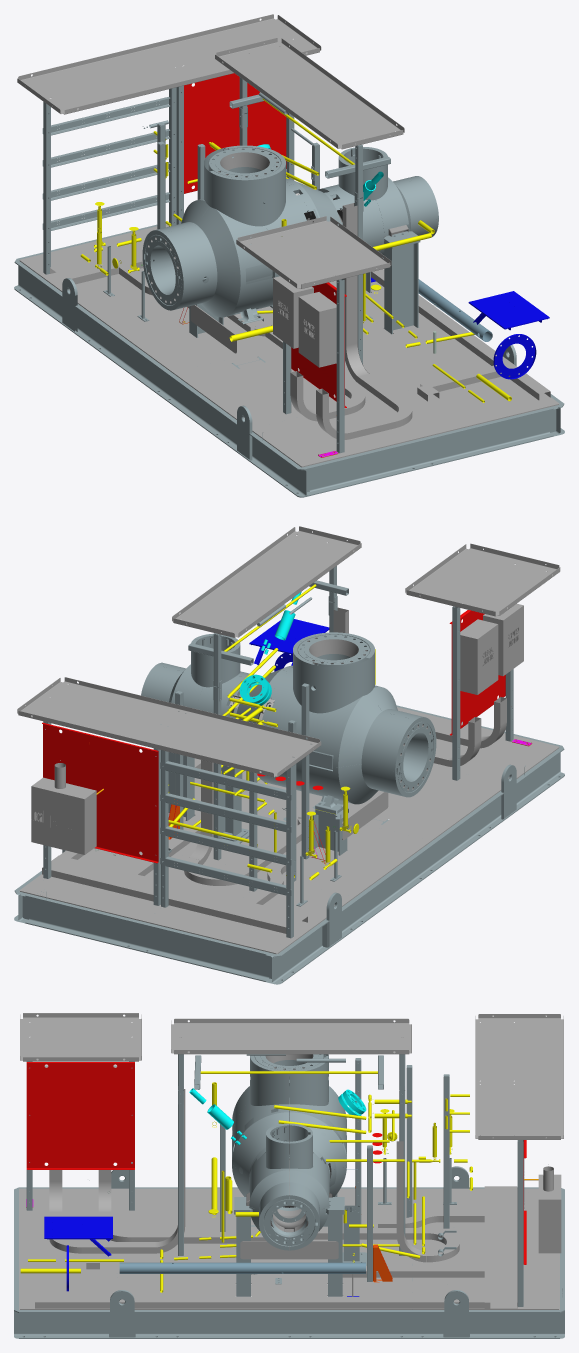
3 views of the same model, one above another, from view 1: azimuth 30°, elevation 25°; view 2: azimuth 150°, elevation 25°; view 3: azimuth 270°, elevation 25° (orthographic). The views are drawn at different scales.
Visible parts, largest first — view 1: 177,177,177.6, 769139577-57_01_001_1-Couverture.1529, 740304057_a03_1-Toit.1233, 762232750-02_09_002_1-Cable_Tray.1021, 740304058-03_002_1-Toit.1104, 769232984_01_002_1-IPE_300_5600.82, 769232984_02_001_1-IPE_300_2550.44, 740304058-04_001_1-Toit.932, 255,0,0.487, 740206545-03_001_1-Support_Instrum_1410mm_5instrum_304_304L. (×4), 152,170,175.1584, Composite Part.2880 (+16 smaller); view 2: 177,177,177.6, 769139577-57_01_001_1-Couverture.1529, 740304057_a03_1-Toit.1233, 762232750-02_09_002_1-Cable_Tray.1021, 255,0,0.487, 740304058-03_002_1-Toit.1104, 769232984_01_002_1-IPE_300_5600.82, 769232984_02_001_1-IPE_300_2550.92, 740304058-04_001_1-Toit.932, 740206545-03_001_1-Support_Instrum_1410mm_5instrum_304_304L. (×4), 076169_002_1-Local panel.498, 152,170,175.1584 (+19 smaller); view 3: 177,177,177.6, 762232750-02_09_002_1-Cable_Tray.1021, 769139577-57_01_001_1-Couverture.1529, 769232984_01_002_1-IPE_300_5600.124, 255,0,0.925, 740304057_a03_1-Toit.1233, 740304058-03_002_1-Toit.1104, 740304058-04_001_1-Toit.932, Composite Part.2881, 076169_002_1-Local panel.498, Composite Part.2880, 769232984_17_001_1-Renfort IPE.140 (+25 smaller).
Part boxes in pixels (<box>): 177,177,177.6: <box>19,224,559,467</box>; 769139577-57_01_001_1-Couverture.1529: <box>142,145,438,317</box>; 740304057_a03_1-Toit.1233: <box>17,14,321,114</box>; 762232750-02_09_002_1-Cable_Tray.1021: <box>50,203,550,439</box>; 740304058-03_002_1-Toit.1104: <box>215,38,404,149</box>; 769232984_01_002_1-IPE_300_5600.82: <box>14,256,313,497</box>; 769232984_02_001_1-IPE_300_2550.44: <box>307,407,556,494</box>; 740304058-04_001_1-Toit.932: <box>236,216,391,288</box>; 255,0,0.487: <box>184,73,286,193</box>; 740206545-03_001_1-Support_Instrum_1410mm_5instrum_304_304L. (×4): <box>42,97,170,230</box>; 152,170,175.1584: <box>145,148,280,324</box>; Composite Part.2880: <box>371,277,549,379</box>; 177,177,177.6: <box>19,707,559,954</box>; 769139577-57_01_001_1-Couverture.1529: <box>141,632,436,804</box>; 740304057_a03_1-Toit.1233: <box>17,677,321,777</box>; 762232750-02_09_002_1-Cable_Tray.1021: <box>42,607,506,933</box>; 255,0,0.487: <box>42,722,158,863</box>; 740304058-03_002_1-Toit.1104: <box>172,526,361,637</box>; 769232984_01_002_1-IPE_300_5600.82: <box>265,743,564,984</box>; 769232984_02_001_1-IPE_300_2550.92: <box>22,893,271,981</box>; 740304058-04_001_1-Toit.932: <box>405,543,560,616</box>; 740206545-03_001_1-Support_Instrum_1410mm_5instrum_304_304L. (×4): <box>160,761,291,895</box>; 076169_002_1-Local panel.498: <box>31,760,96,854</box>; 152,170,175.1584: <box>298,634,433,813</box>; 177,177,177.6: <box>19,1188,559,1309</box>; 762232750-02_09_002_1-Cable_Tray.1021: <box>35,1089,517,1308</box>; 769139577-57_01_001_1-Couverture.1529: <box>232,1054,346,1250</box>; 769232984_01_002_1-IPE_300_5600.124: <box>14,1306,564,1338</box>; 255,0,0.925: <box>26,1062,134,1169</box>; 740304057_a03_1-Toit.1233: <box>475,1014,563,1139</box>; 740304058-03_002_1-Toit.1104: <box>171,1018,411,1054</box>; 740304058-04_001_1-Toit.932: <box>20,1013,141,1061</box>; Composite Part.2881: <box>119,1262,365,1273</box>; 076169_002_1-Local panel.498: <box>538,1164,561,1253</box>; Composite Part.2880: <box>44,1216,359,1296</box>; 769232984_17_001_1-Renfort IPE.140: <box>240,1241,338,1259</box>.
Bounding box in the file's own units: 300 × 283 × 560.
